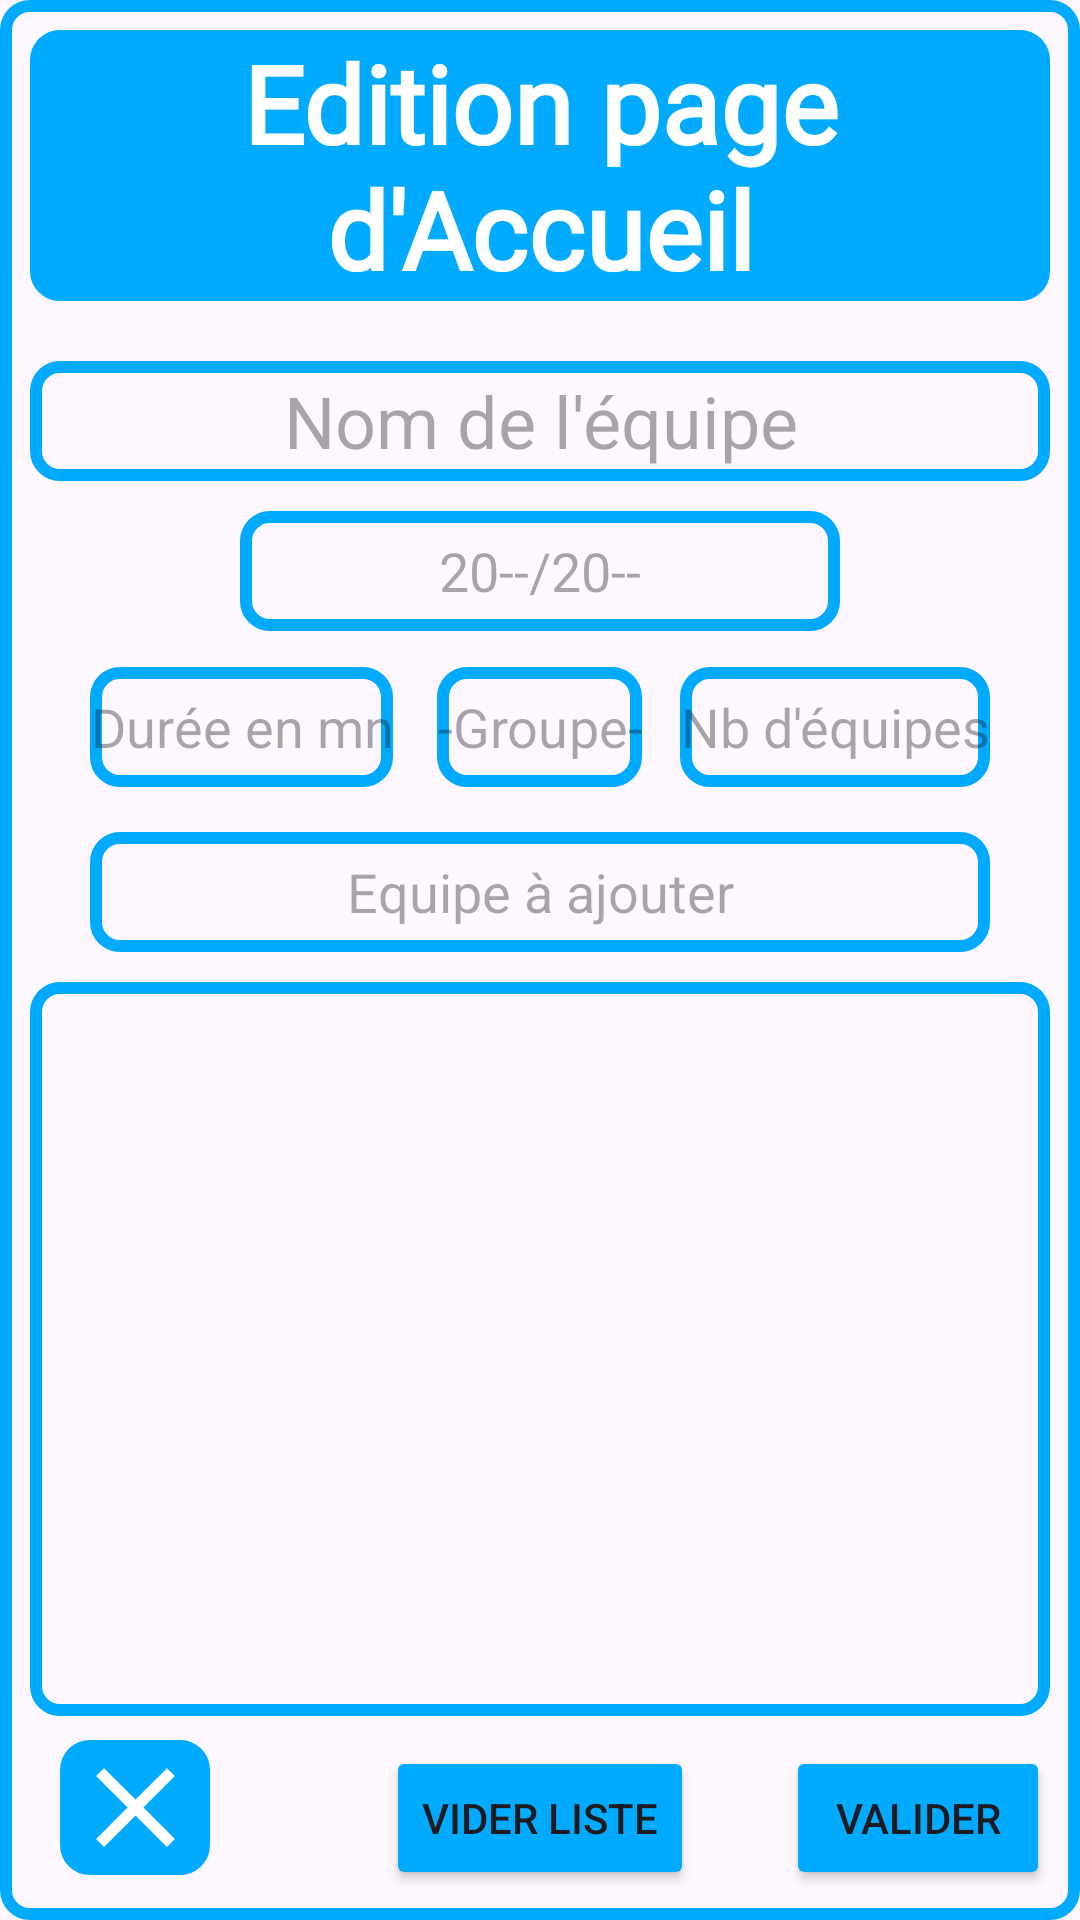

Named icons in this screenshot (1080×1920) and their bounding boxes, (x1, y1, x2, y2):
close: (60, 1740, 210, 1875)
